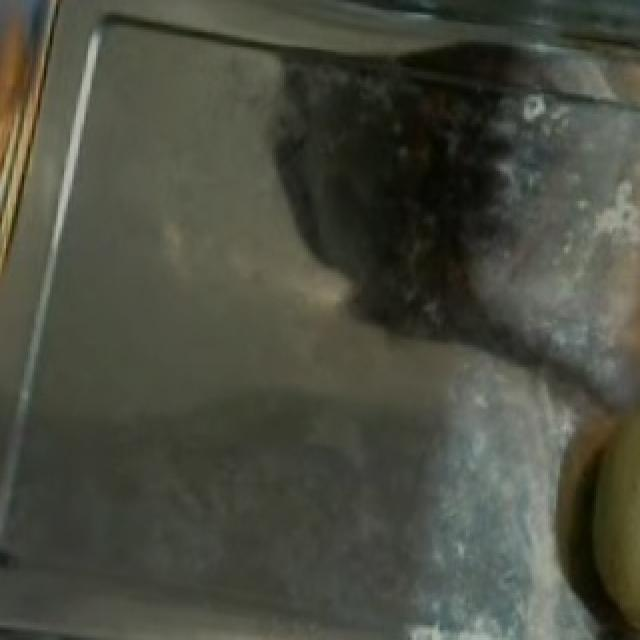Fruit: (522, 359, 640, 640), (0, 0, 84, 303)
